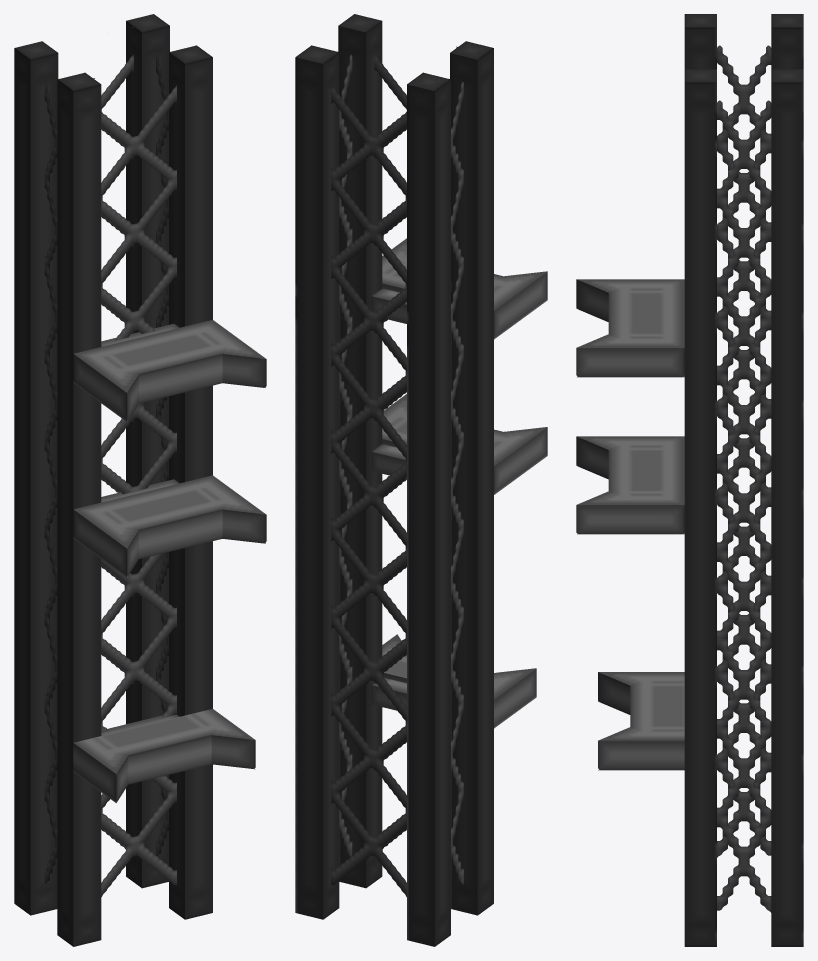
File: huge_erector.obj
3 renders of one model, left to right at view 1: azimuth 30°, elevation 25°; view 2: azimuth 150°, elevation 25°; view 3: azimuth 270°, elevation 25°, orthographic.
Parts seen in each view (by area): view 1: huge_erector; view 2: huge_erector; view 3: huge_erector.
Boxes of the visible parts, x1,y1,x2,y2 form: huge_erector: (14, 14, 266, 946); huge_erector: (295, 14, 547, 946); huge_erector: (576, 14, 803, 946).
Size of the model in its own units: 1.88 by 11 by 2.62.
